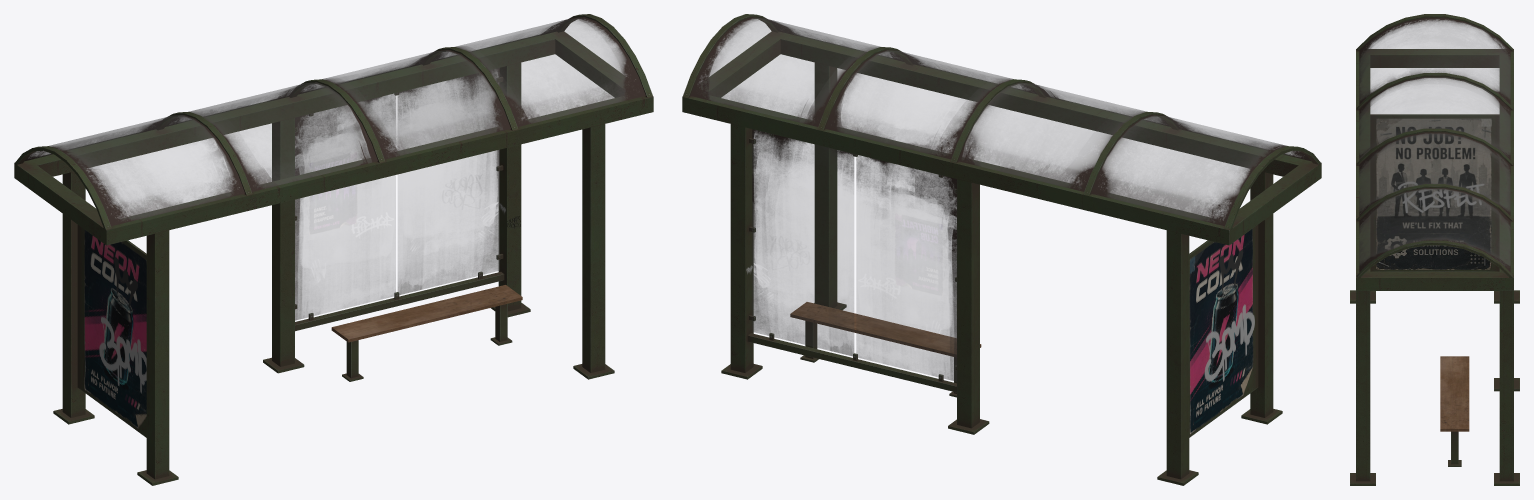
Rendered from low_poly_bus_station.glb.
The picture shows the model from 3 angles, left to right: view 1: azimuth 30°, elevation 25°; view 2: azimuth 150°, elevation 25°; view 3: azimuth 270°, elevation 25°; orthographic projection. The views are drawn at different scales.
Parts seen in each view (by area): view 1: busStop; view 2: busStop; view 3: busStop.
Part boxes in pixels (x1,y1,x2,y2): busStop: (14,14,653,485); busStop: (682,14,1321,485); busStop: (1350,14,1519,485).
Size of the model in its own units: 5650 by 3002 by 1770.
Materials: 2 (2 with a texture image).
